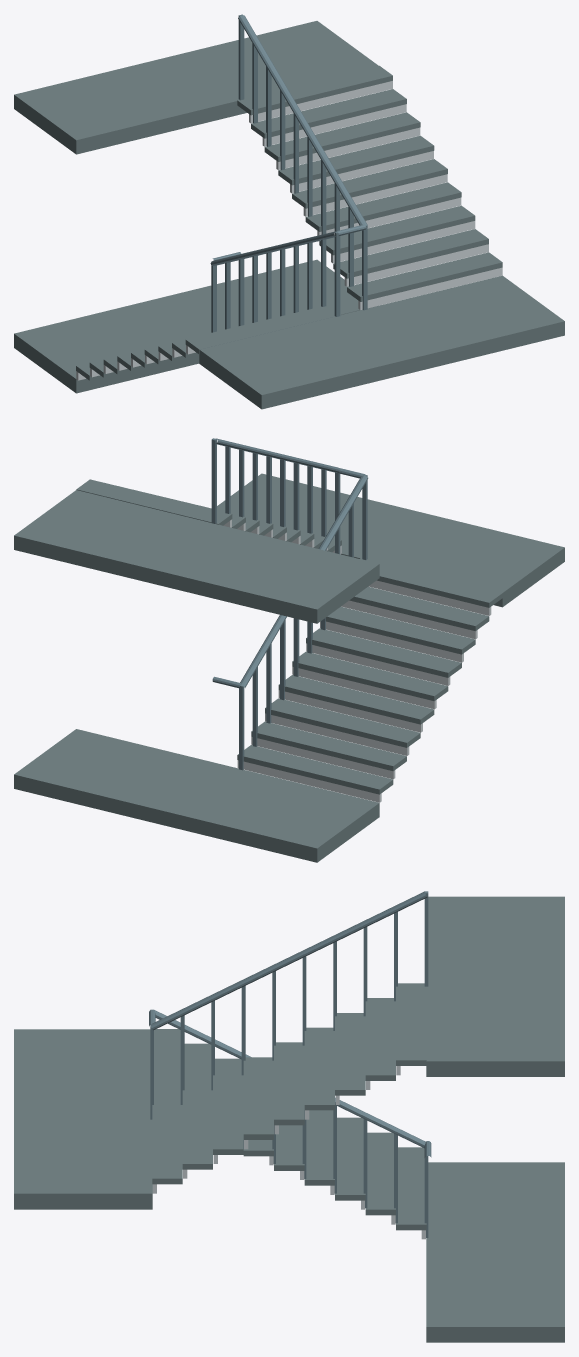
Rendered from 01_stairs_2.glb.
3 renders of one model, top to bottom at view 1: azimuth 30°, elevation 25°; view 2: azimuth 150°, elevation 25°; view 3: azimuth 270°, elevation 25°, orthographic. The views are drawn at different scales.
Parts seen in each view (by area): view 1: Flight_B_Step_09_Tread, Turn_Landing_Walkable, Turn_Landing_Walkable.001, Turn_Landing_Walkable.002, Flight_B_Baluster.009, Flight_A_Baluster.019, Flight_A_Step_01_Riser; view 2: Flight_A_Step_01_Riser, Turn_Landing_Walkable.002, Turn_Landing_Walkable.001, Turn_Landing_Walkable, Flight_B_Baluster.009, Flight_A_Baluster.019, Flight_B_Step_09_Tread; view 3: Turn_Landing_Walkable.002, Turn_Landing_Walkable, Turn_Landing_Walkable.001, Flight_B_Step_09_Tread, Flight_A_Step_01_Riser, Flight_B_Baluster.009, Flight_A_Baluster.019.
Part boxes in pixels (left/top/right/bottom): Flight_B_Step_09_Tread: left=237, top=65, right=502, bottom=309; Turn_Landing_Walkable: left=199, top=275, right=564, bottom=409; Turn_Landing_Walkable.001: left=14, top=21, right=378, bottom=154; Turn_Landing_Walkable.002: left=14, top=259, right=360, bottom=393; Flight_B_Baluster.009: left=238, top=14, right=367, bottom=310; Flight_A_Baluster.019: left=210, top=231, right=340, bottom=332; Flight_A_Step_01_Riser: left=76, top=305, right=340, bottom=380; Flight_A_Step_01_Riser: left=237, top=558, right=502, bottom=802; Turn_Landing_Walkable.002: left=14, top=729, right=379, bottom=862; Turn_Landing_Walkable.001: left=14, top=490, right=379, bottom=623; Turn_Landing_Walkable: left=217, top=473, right=564, bottom=607; Flight_B_Baluster.009: left=211, top=438, right=340, bottom=536; Flight_A_Baluster.019: left=239, top=474, right=368, bottom=770; Flight_B_Step_09_Tread: left=76, top=479, right=341, bottom=554; Turn_Landing_Walkable.002: left=426, top=1162, right=564, bottom=1342; Turn_Landing_Walkable: left=14, top=1029, right=152, bottom=1209; Turn_Landing_Walkable.001: left=426, top=896, right=564, bottom=1076; Flight_B_Step_09_Tread: left=152, top=983, right=426, bottom=1193; Flight_A_Step_01_Riser: left=154, top=1029, right=426, bottom=1239; Flight_B_Baluster.009: left=150, top=891, right=428, bottom=1119; Flight_A_Baluster.019: left=150, top=1009, right=428, bottom=1237.
Bounding box in the file's own units: 3.99 × 4.25 × 5.64.
